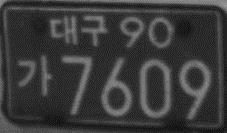0: (137, 57, 173, 120), (147, 14, 173, 49)
6: (100, 55, 133, 117)
7: (58, 52, 93, 117)
9: (177, 57, 212, 122), (118, 14, 145, 49)
가: (15, 52, 53, 99)
대구_O: (47, 13, 108, 47)
